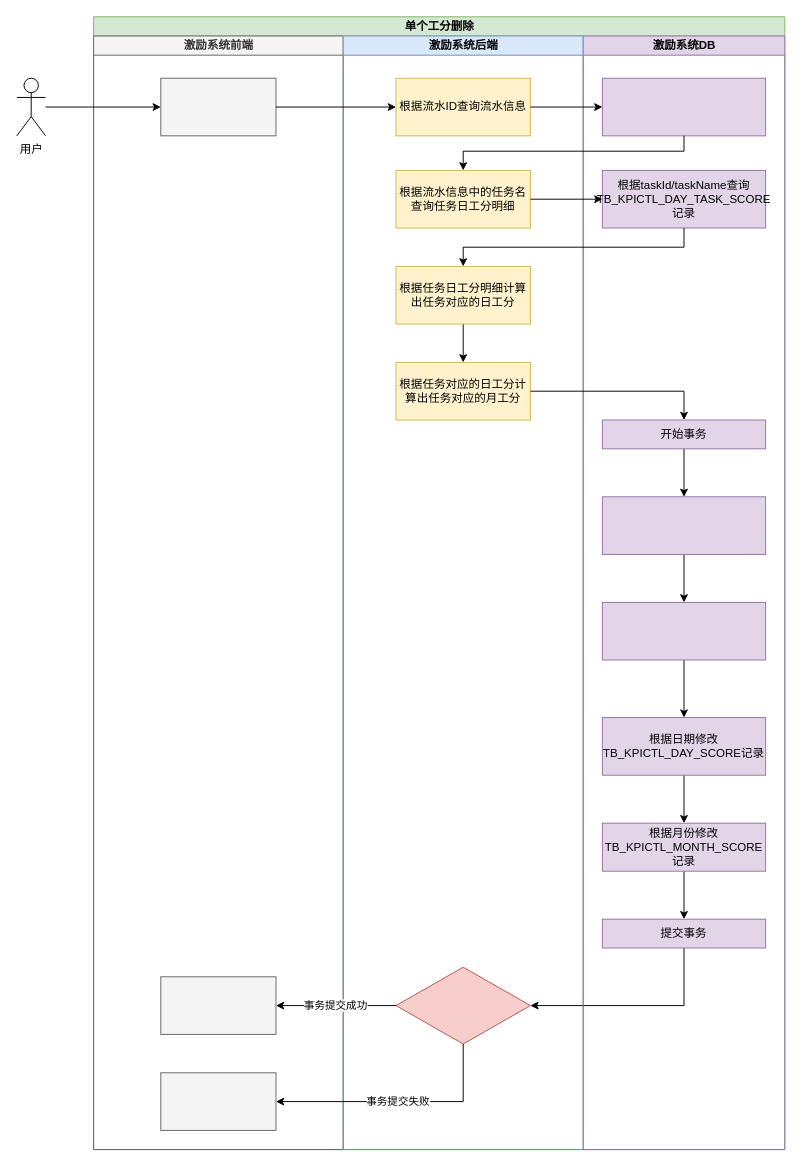
Image size: 802x1166. Some labels were removed from this diagram. The box of each missing label's shape, as (x1, y1, x2, y2) in pixels:
事务提交结果: (395, 966, 530, 1044)
修改TB_KPICTL_TASK表中id=流水id的记录的is_delete=1: (601, 496, 766, 554)
删除TB_KPICTL_DAY_TASK_SCORE表中task_name = 任务名称的记录: (601, 601, 766, 660)
提示工分录入成功: (160, 976, 276, 1034)
提示系统异常，请稍后重试: (160, 1072, 276, 1130)
根据id查询TB_KPICTL_TASK记录: (601, 77, 766, 136)
点击【删除】按钮: (160, 77, 276, 136)
